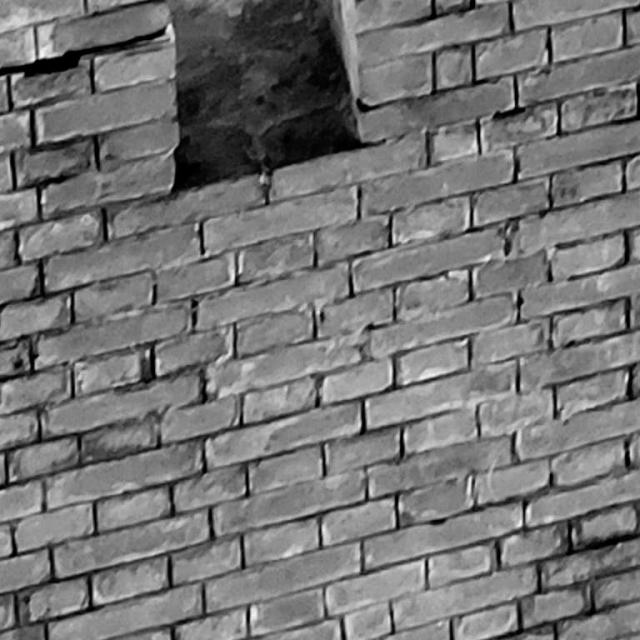crack: (0, 24, 172, 77)
